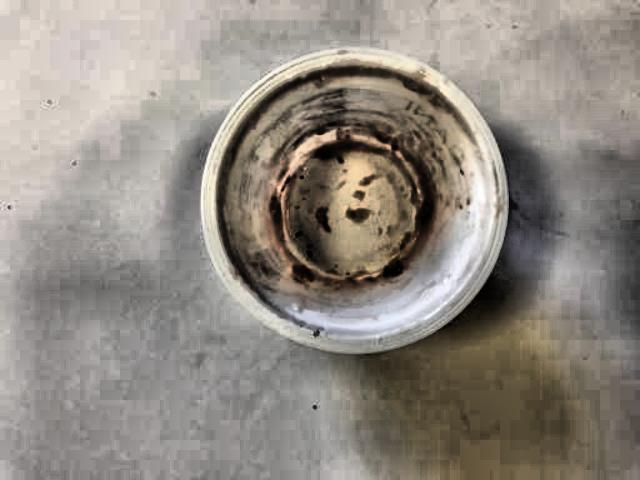Plastic: (169, 29, 527, 376)
